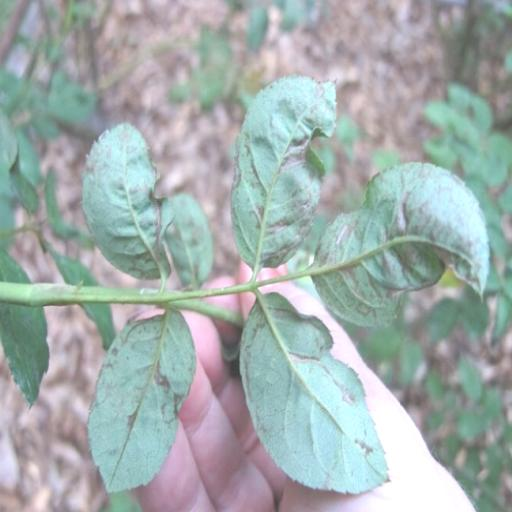healthy_leaf: (0, 299, 47, 406), (50, 249, 97, 285), (81, 304, 114, 348), (0, 252, 29, 283)
thrip: (240, 292, 386, 493), (314, 164, 488, 325), (231, 77, 333, 270), (88, 309, 195, 491), (82, 124, 174, 282), (165, 193, 213, 287)
